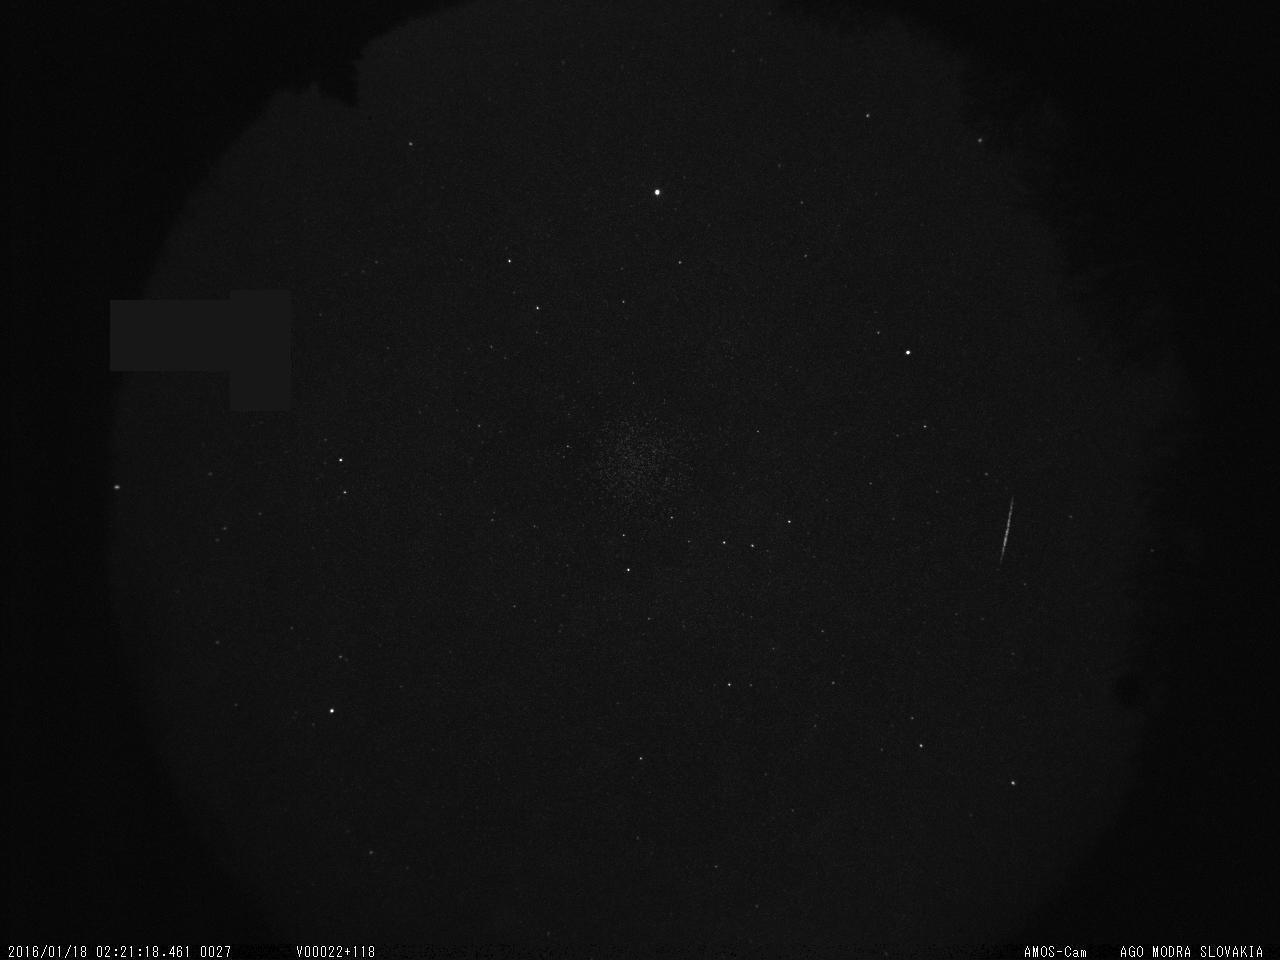Meteor: (991, 479, 1023, 575)
